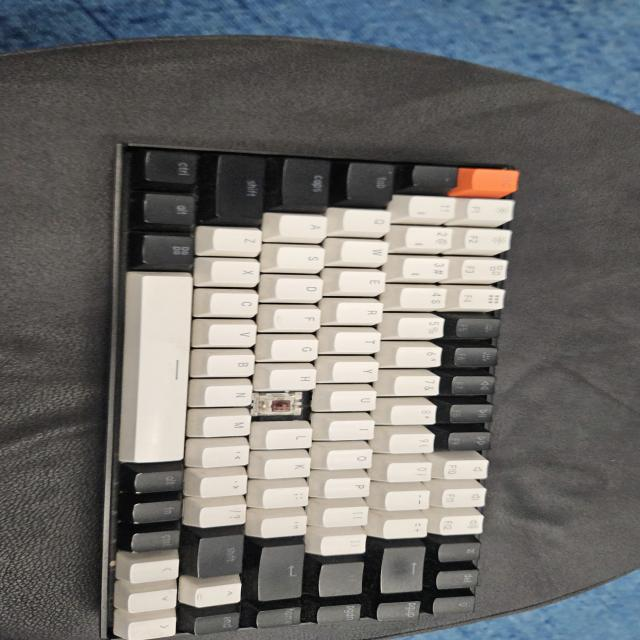C: (260, 391, 303, 421), (261, 393, 298, 421)
